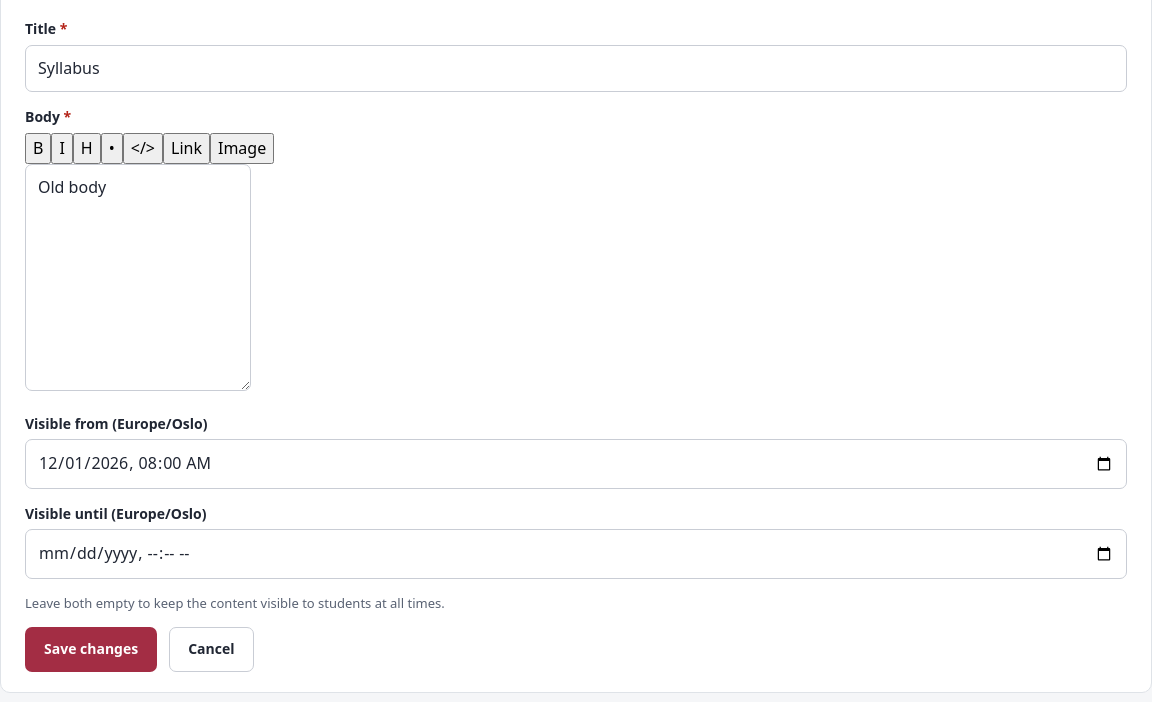
Scenario: EditContentForm › shows the server error and stays open
(page scrolled)
Click the button "Save changes".
click(91, 650)  # box top-left (25, 628), bottom-right (157, 672)
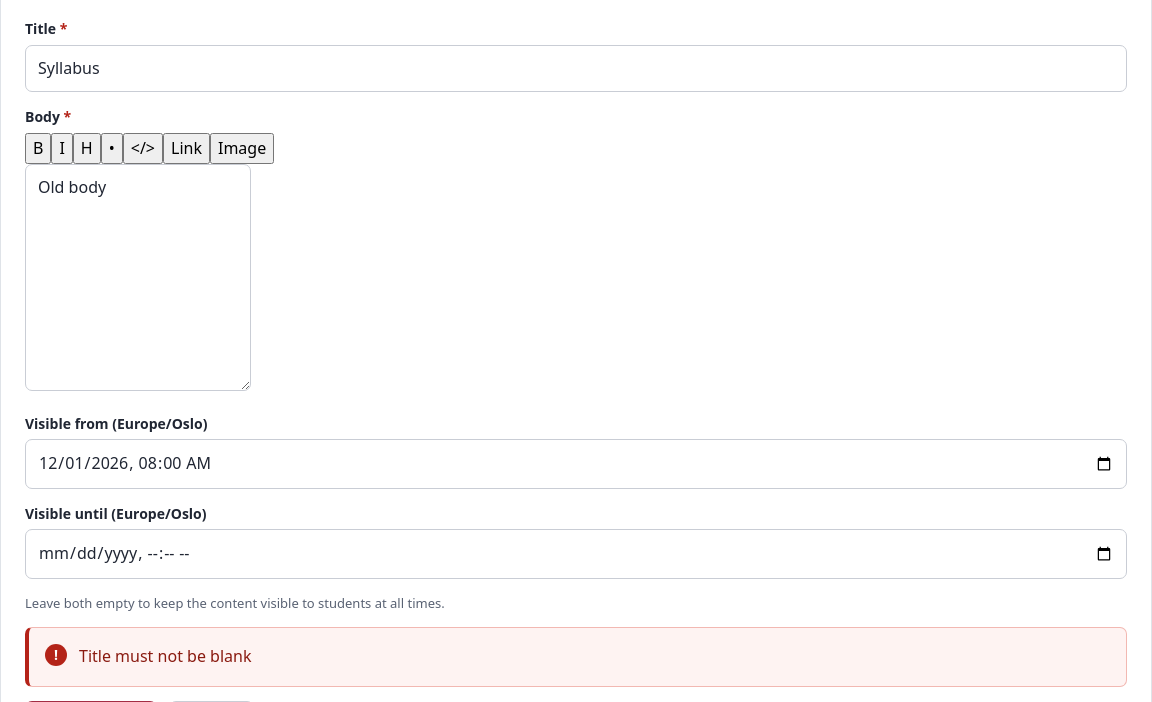
Result: the text "Title must not be blank" is shown at top-left (79, 644), bottom-right (252, 670)
